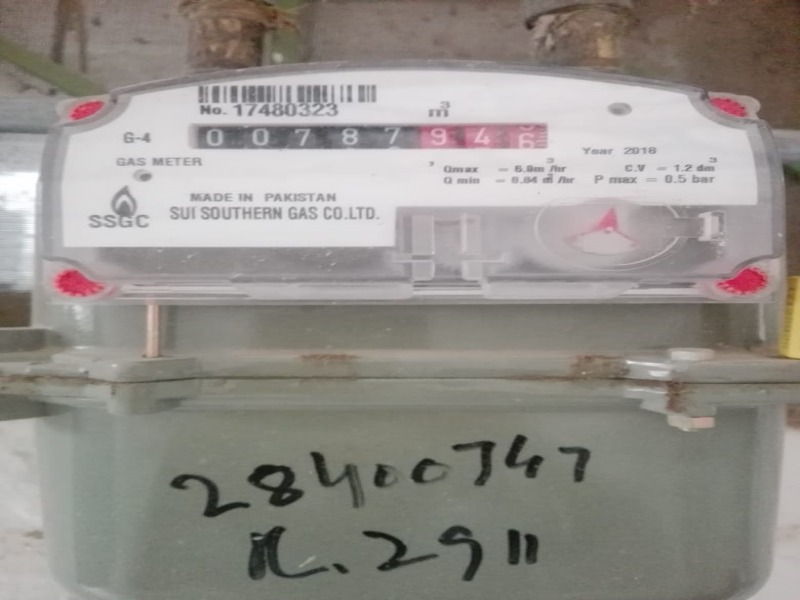ssgc: (184, 121, 552, 152)
